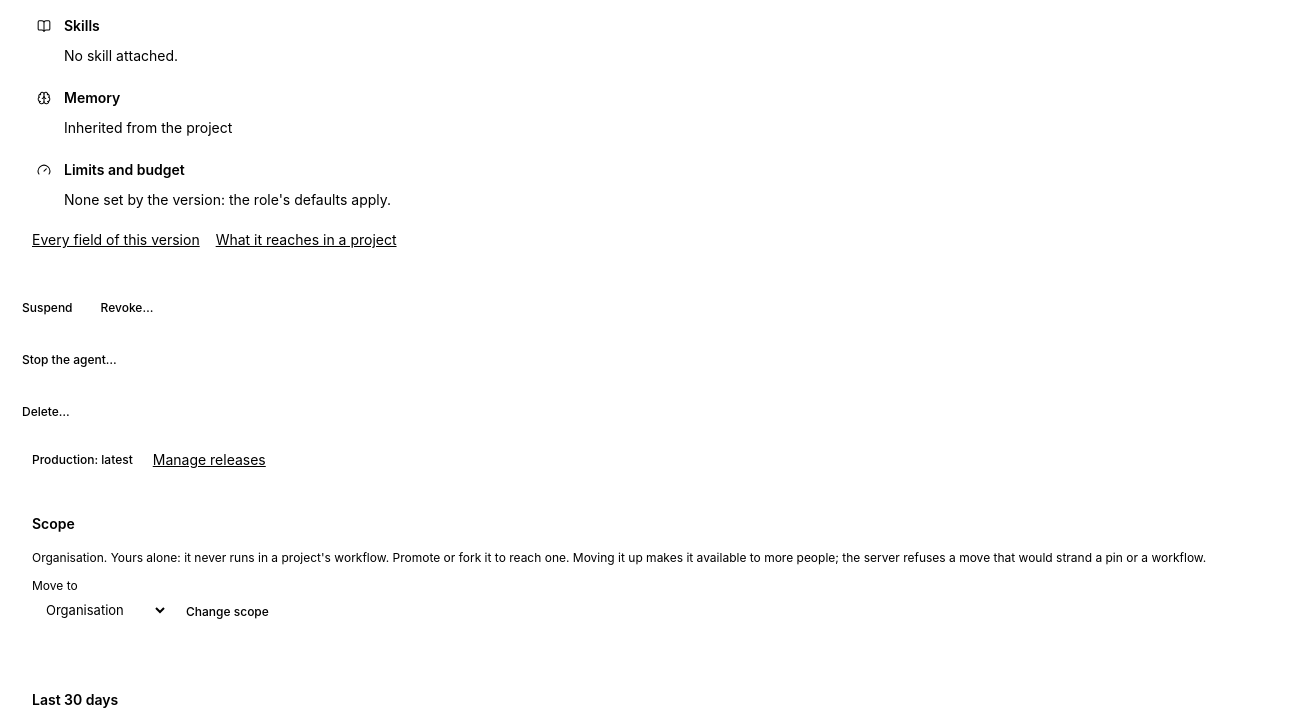
Test: an agent's Stop › says it suspends the agent and stops its runs and sessions, sends the reason, and shows the counts
(page scrolled)
Click the button "Stop the agent…". click: x=69, y=360
box: [12,346,127,374]
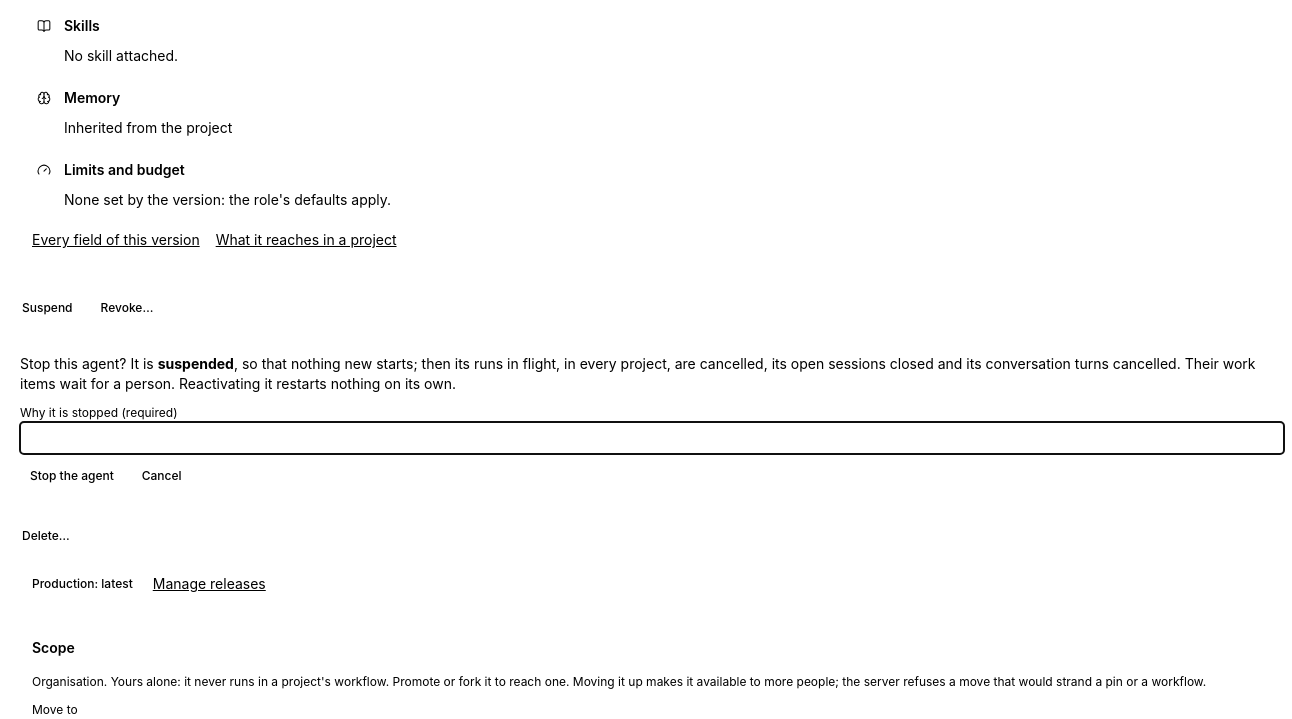
Expected: the element with test id "confirmation" shows "It is suspended, so that nothing new starts", [12,346,1291,498]
Expected: the element with test id "confirmation" shows "its runs in flight, in every project, are cancelled, its open sessions closed", [20,355,1256,392]
Click the button "Cancel". click: x=162, y=476
box: [132,462,192,490]
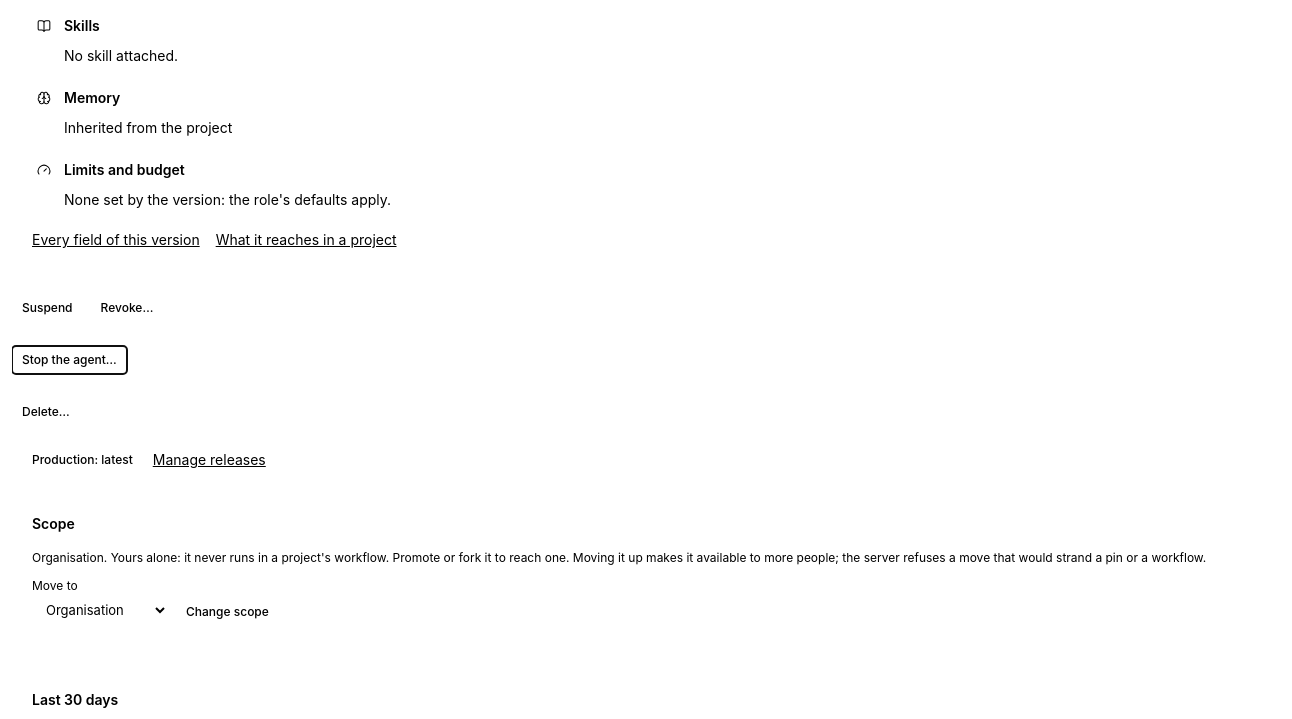
Click the button "Stop the agent…". click: x=69, y=360
box: [12,346,127,374]
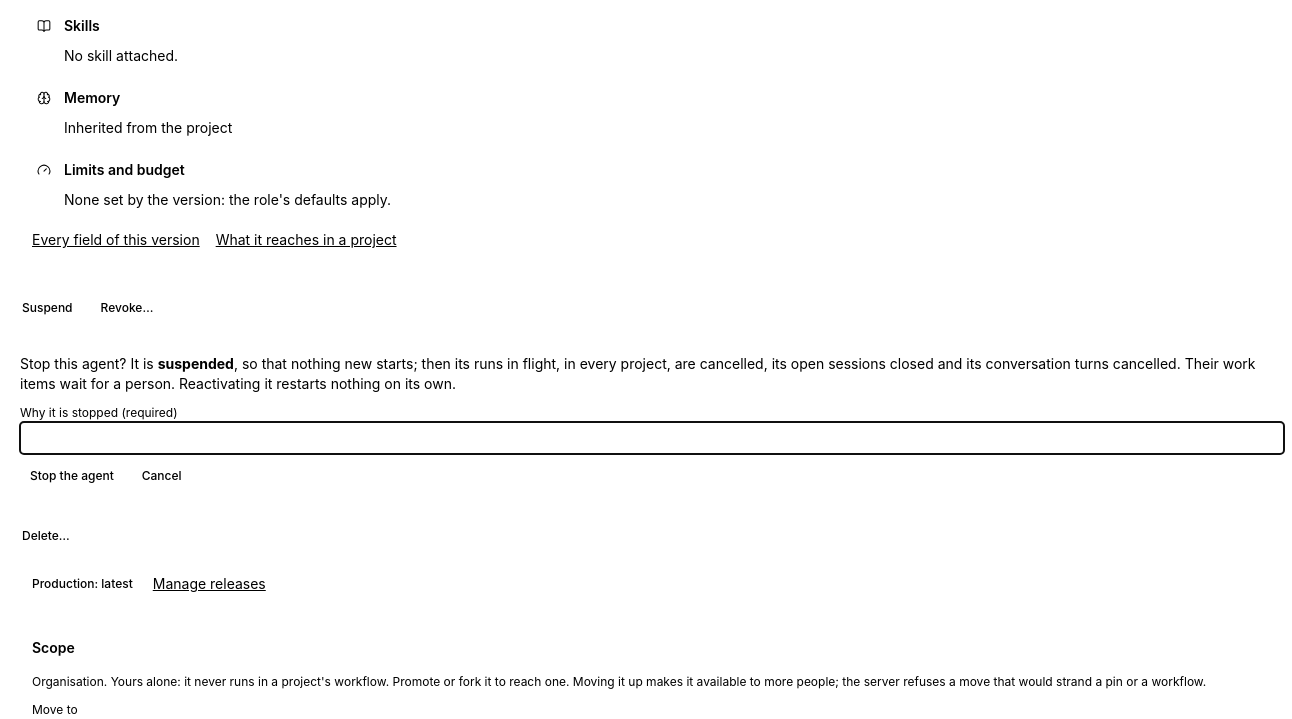
Expected: the button "Stop the agent" is disabled, [20,462,124,490]
Type "it opens pull requests on the wrong repository" into the field. click: x=652, y=438
box: [20,422,1284,454]
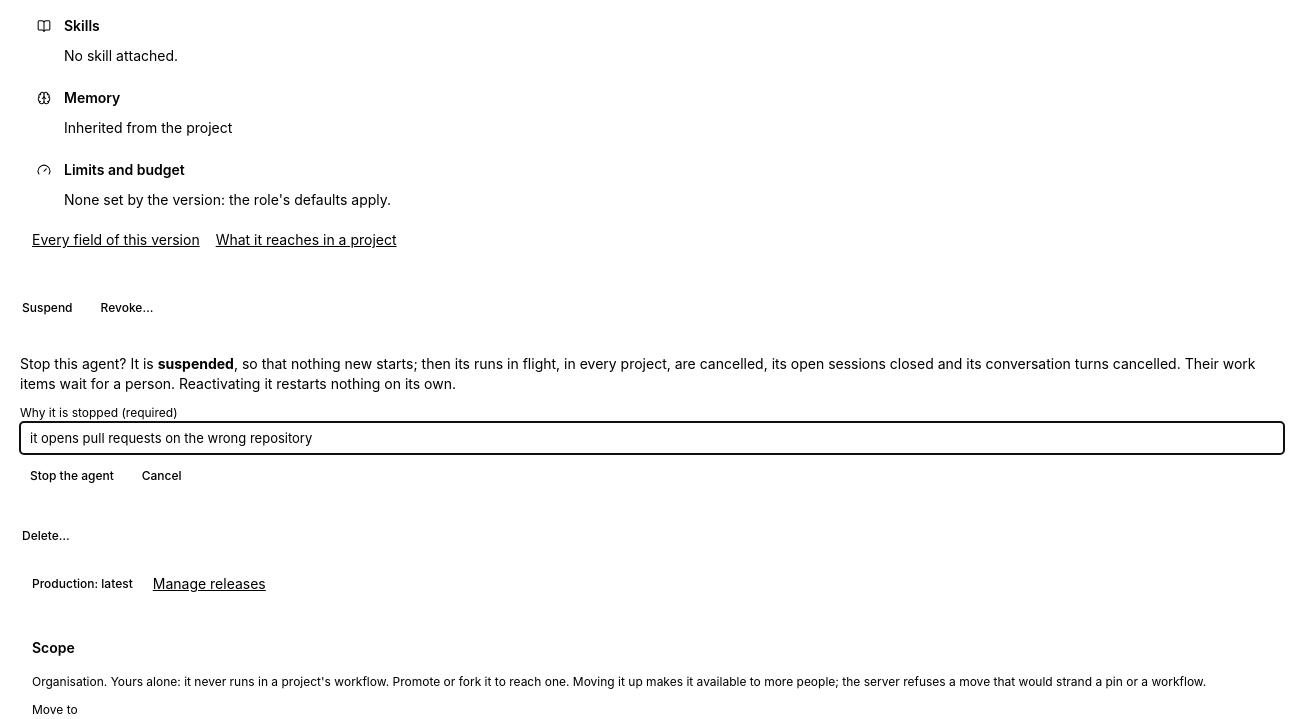
Click the button "Stop the agent". click: x=72, y=476
box: [20,462,124,490]
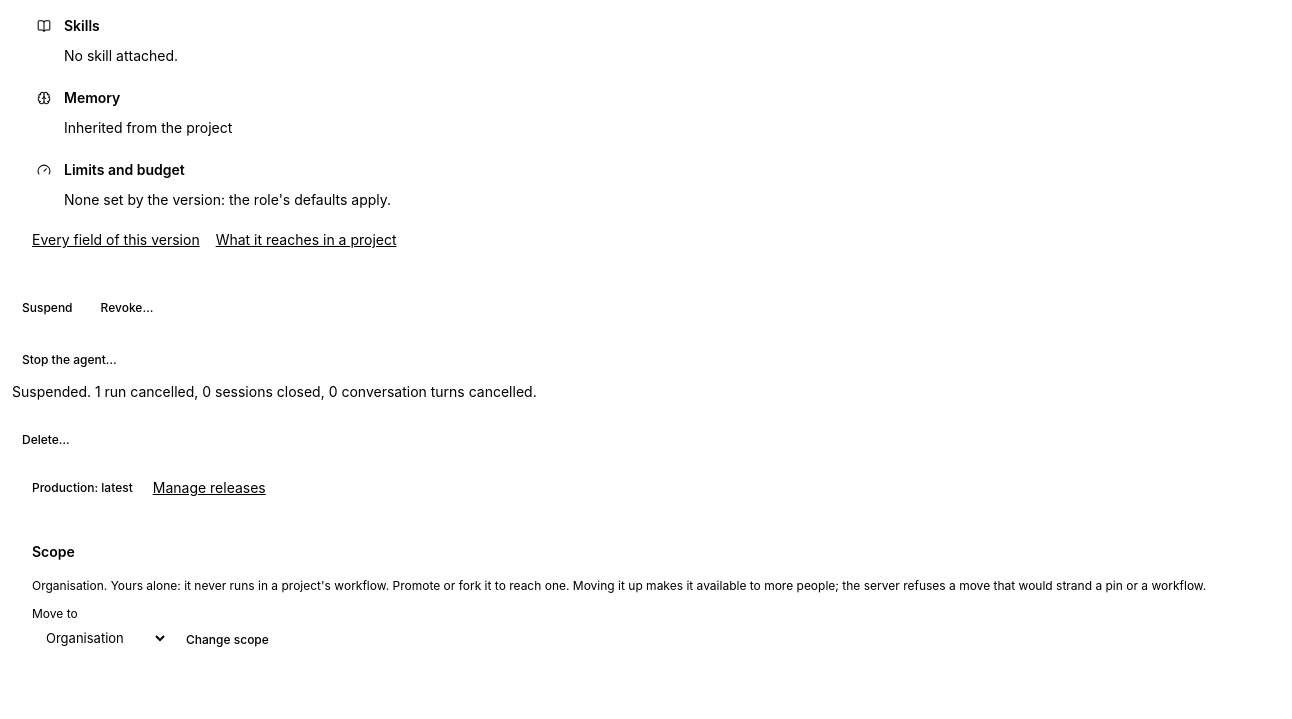
Expected: the message with test id "agent-stop-result" reads "Suspended. 1 run cancelled, 0 sessions closed, 0 conversation turns cancelled.", [12,383,537,400]
